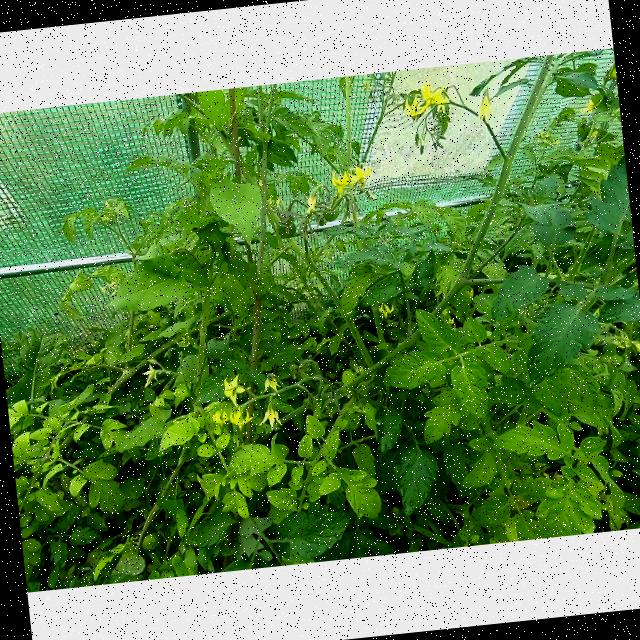Flowers: (399, 74, 451, 118), (254, 394, 286, 432), (138, 356, 172, 387), (607, 326, 640, 357), (222, 372, 250, 408), (472, 85, 497, 124), (228, 404, 258, 430), (328, 168, 352, 198), (350, 163, 374, 191), (303, 187, 322, 215), (262, 371, 282, 394), (208, 408, 230, 427), (100, 280, 121, 298), (576, 96, 594, 114), (376, 302, 395, 318), (264, 195, 281, 208), (536, 128, 554, 140), (551, 134, 564, 144), (588, 130, 600, 140), (445, 316, 455, 324), (441, 308, 449, 316)
